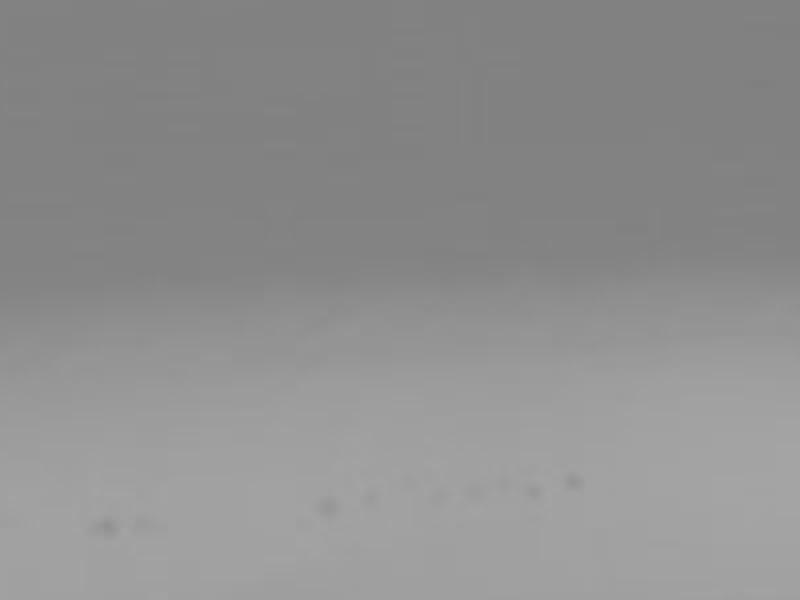defect: (127, 508, 165, 532), (316, 489, 344, 519), (85, 511, 113, 537), (356, 482, 380, 508), (558, 466, 583, 490), (467, 480, 486, 506), (432, 480, 451, 504), (526, 482, 547, 499)
